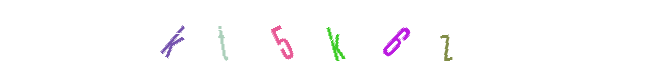5: (267, 0, 347, 80)
6: (339, 0, 419, 80)
K: (133, 0, 213, 80), (285, 0, 365, 80)
T: (230, 0, 310, 80)
Z: (356, 0, 436, 80)
